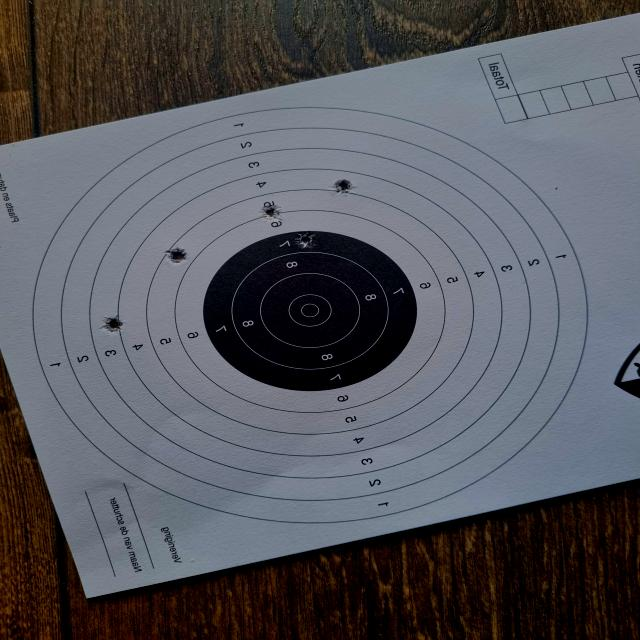3: (102, 315, 124, 332)
4: (164, 248, 188, 264)
5: (328, 179, 358, 194)
6: (260, 205, 283, 222)
7: (294, 232, 316, 248)
Target: (4, 80, 612, 550)
black_contour: (202, 231, 414, 390)
